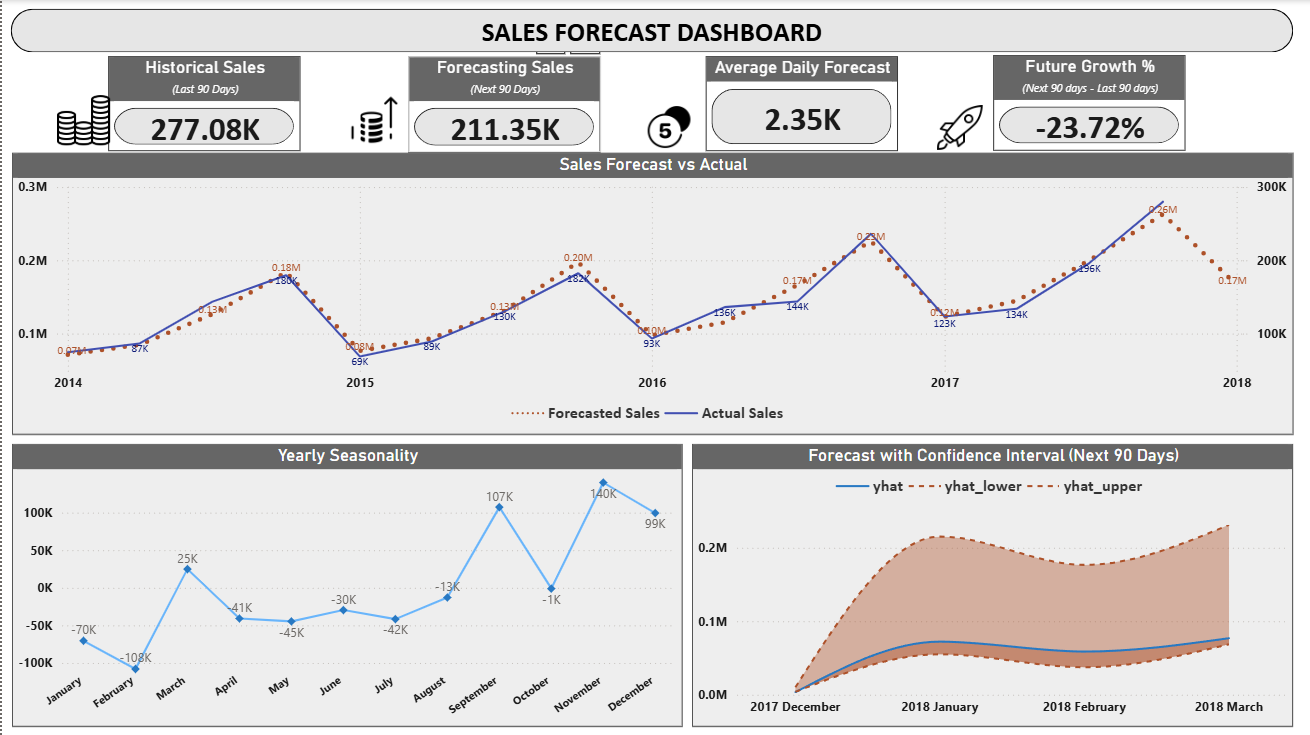

This screenshot's page, from the dashboard's own definition file:
{"tool":"powerbi","page":{"name":"Sales Forecasting","canvas":[1280,720],"ordinal":2},"visuals":[{"type":"cardVisual","title":"Historical Sales","fields":{"Data":["Measure.Last 90 days sales"]},"box":[104.4,54.5,188.3,92.9],"z":0},{"type":"cardVisual","title":"Forecasting Sales","fields":{"Data":["Sum(Future Forecast.yhat)"]},"box":[397.9,54.5,188.3,94.2],"z":1000},{"type":"cardVisual","title":"Average Daily Forecast","fields":{"Data":["Measure.Average Daily Forecast"]},"box":[688.9,54.5,188.3,92.9],"z":2000},{"type":"cardVisual","title":"Future Growth %","fields":{"Data":["Measure.Future Growth"]},"box":[970.3,53.9,188.3,93.5],"z":3000},{"type":"shape","box":[8.6,8.6,1254.6,42.8],"z":4000},{"type":"image","box":[53.4,88.4,51.7,59.1],"z":5000},{"type":"image","box":[341.4,88.4,45.5,59.1],"z":6000},{"type":"image","box":[629.4,100.7,45.5,48],"z":7000},{"type":"image","box":[914.9,100.7,45.5,48],"z":8000},{"type":"lineChart","title":"Sales Forecast vs Actual","fields":{"Y2":["Sum(Cleaned_Superstore.Sales)"],"Y":["Sum(sales_forecast.yhat)"],"Category":["sales_forecast.ds.Variation.Date Hierarchy.Year","sales_forecast.ds.Variation.Date Hierarchy.Quarter","sales_forecast.ds.Variation.Date Hierarchy.Month","sales_forecast.ds.Variation.Date Hierarchy.Day"]},"box":[9.8,149.2,1253.4,276.4],"z":9000},{"type":"stackedAreaChart","title":"Forecast with Confidence Interval (Next 90 Days)","fields":{"Category":["Future Forecast.ds.Variation.Date Hierarchy.Year","Future Forecast.ds.Variation.Date Hierarchy.Month"],"Y":["Sum(Future Forecast.yhat)","Sum(Future Forecast.yhat_lower)","Sum(Future Forecast.yhat_upper)"]},"box":[674.5,434.5,588.3,276.9],"z":10000},{"type":"lineChart","title":"Yearly Seasonality","fields":{"Category":["sales_forecast.ds.Variation.Date Hierarchy.Month"],"Y":["Sum(sales_forecast.yearly)"]},"box":[9.8,434.5,656,276.9],"z":11000}]}

Visuals, with their boxes in screenshot pixels (x1, y1, x2, y2), scaled from the page's 1280x720 canvas onto the 1310x735 screenshot:
"Historical Sales" cardVisual: bbox=[107, 56, 300, 150]
"Forecasting Sales" cardVisual: bbox=[407, 56, 600, 152]
"Average Daily Forecast" cardVisual: bbox=[705, 56, 898, 150]
"Future Growth %" cardVisual: bbox=[993, 55, 1186, 150]
shape: bbox=[9, 9, 1293, 52]
image: bbox=[55, 90, 108, 151]
image: bbox=[349, 90, 396, 151]
image: bbox=[644, 103, 691, 152]
image: bbox=[936, 103, 983, 152]
"Sales Forecast vs Actual" lineChart: bbox=[10, 152, 1293, 434]
"Forecast with Confidence Interval (Next 90 Days)" stackedAreaChart: bbox=[690, 444, 1292, 726]
"Yearly Seasonality" lineChart: bbox=[10, 444, 681, 726]
